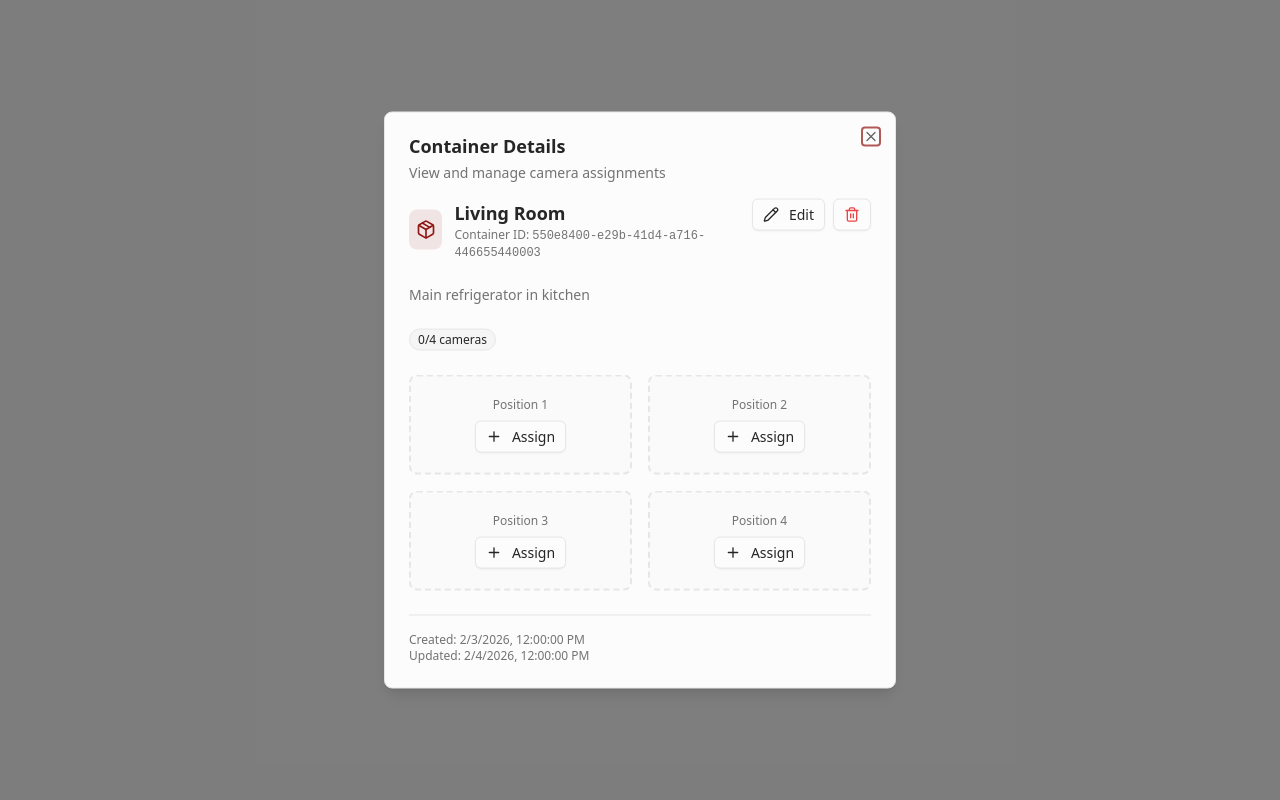
Test: ContainerDetail › Delete Flow › closes confirmation dialog when Cancel is clicked
Check: the element with test id "container-detail-content" is shown, box [409,198,871,664]
Note: Open delete dialog
Click the button without text in the row of "Living Room".
click(852, 214)  # box [833,198,871,230]
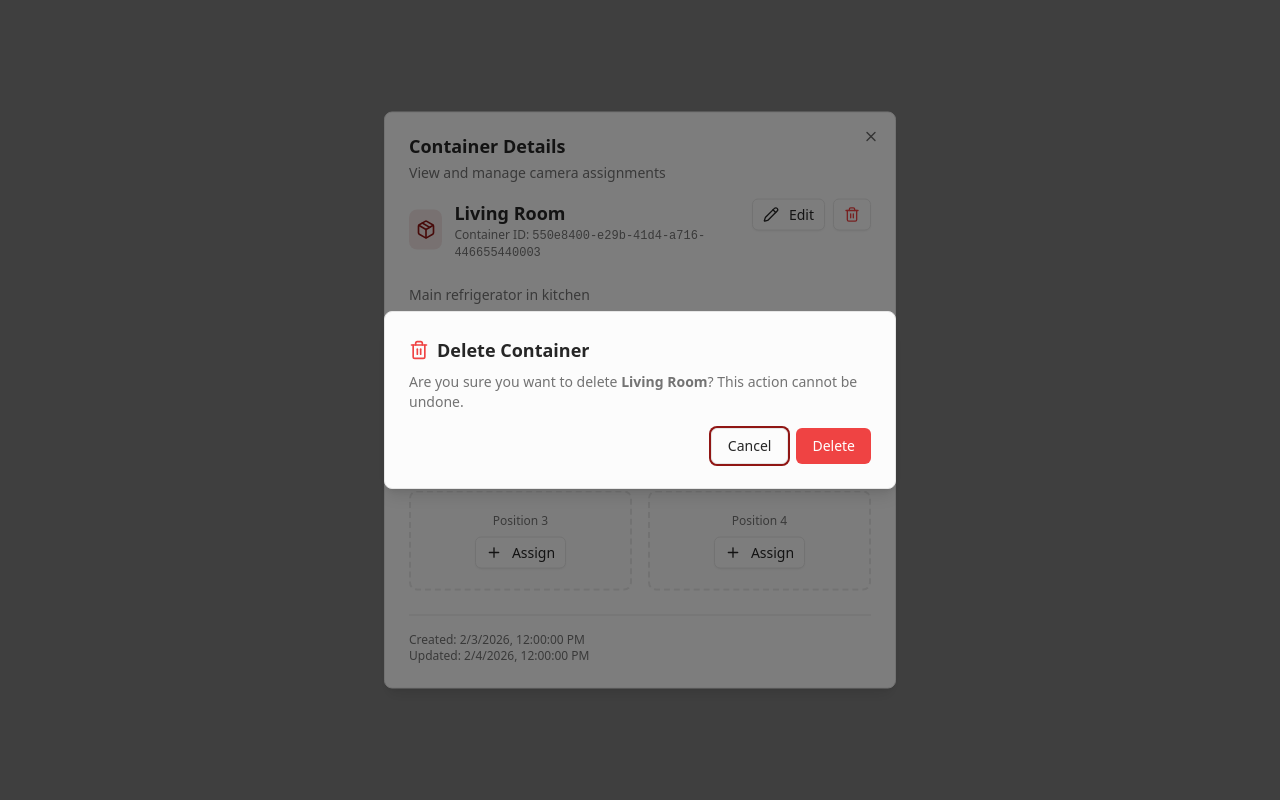
Check: the dialog with test id "delete-container-dialog" is shown, box [384,311,896,489]
Note: Click Cancel
Click the button "Cancel".
click(750, 446)  # box [711,428,788,464]
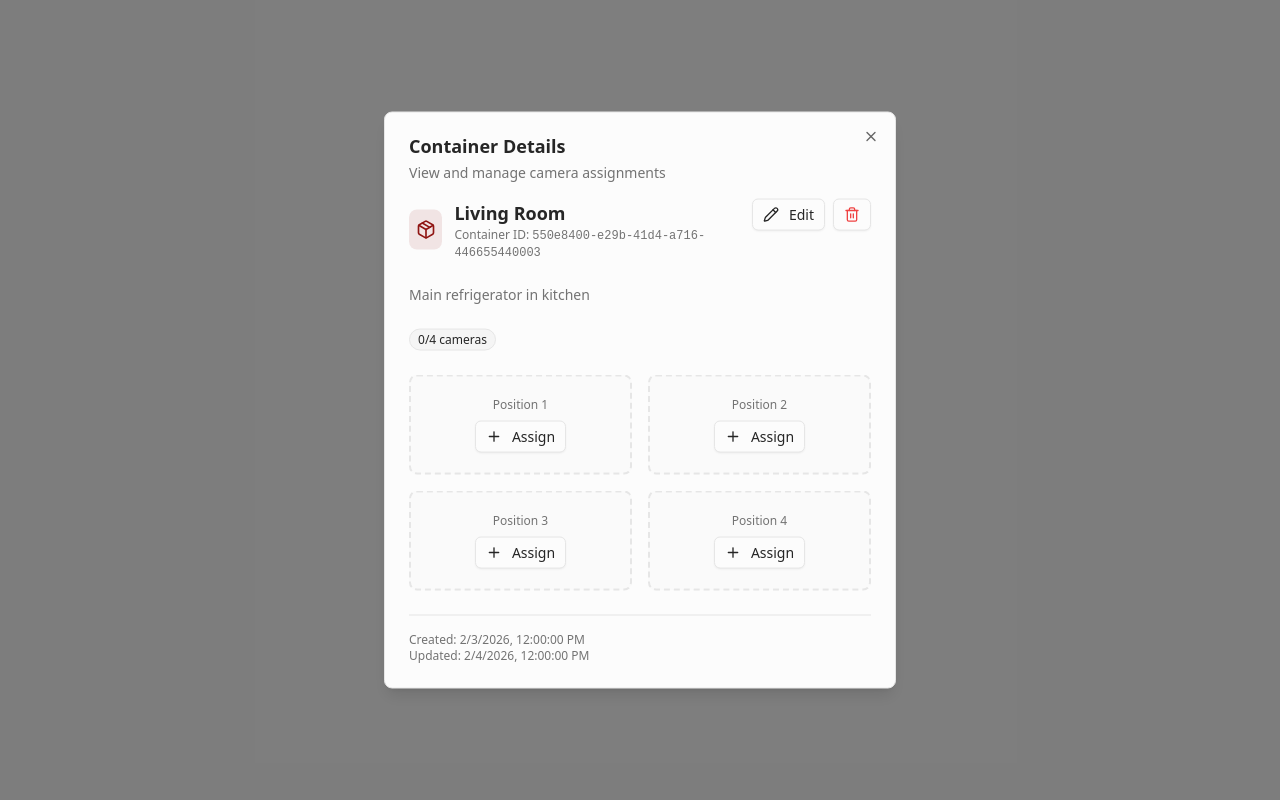
Check: the dialog with test id "delete-container-dialog" is gone
